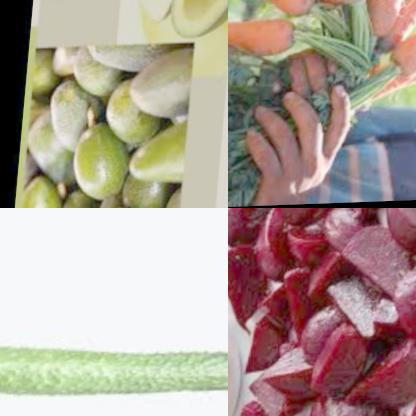avocado: (72, 103, 131, 200), (122, 130, 199, 198), (122, 65, 198, 121), (39, 79, 96, 152), (26, 111, 71, 194), (77, 39, 160, 83), (121, 0, 187, 34), (177, 0, 228, 42), (17, 183, 75, 208)
beet: (228, 208, 416, 319), (236, 307, 416, 416)
carrot: (228, 11, 313, 66), (365, 0, 416, 40), (393, 0, 416, 87), (228, 0, 332, 18)
cucumber: (0, 327, 228, 416)
